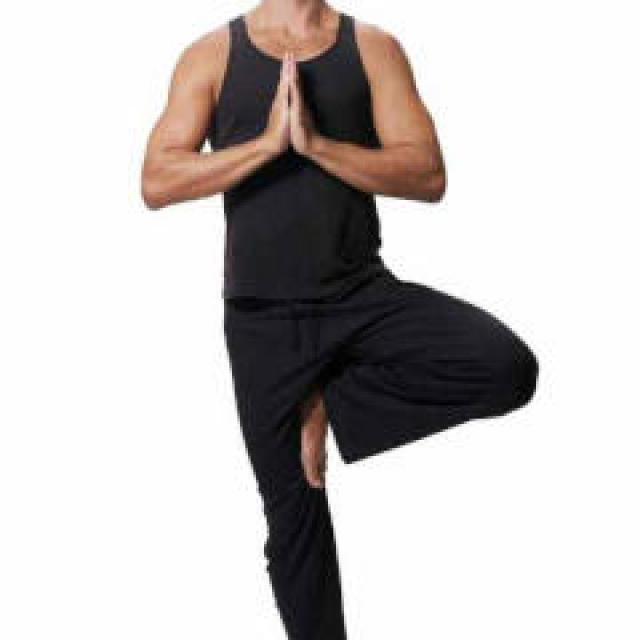yoga-pose tree: (133, 9, 538, 630)
